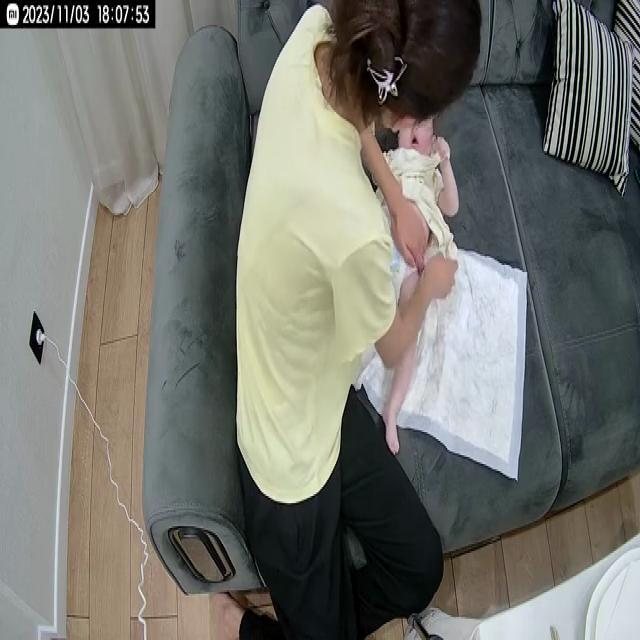baby: (364, 104, 459, 464)
